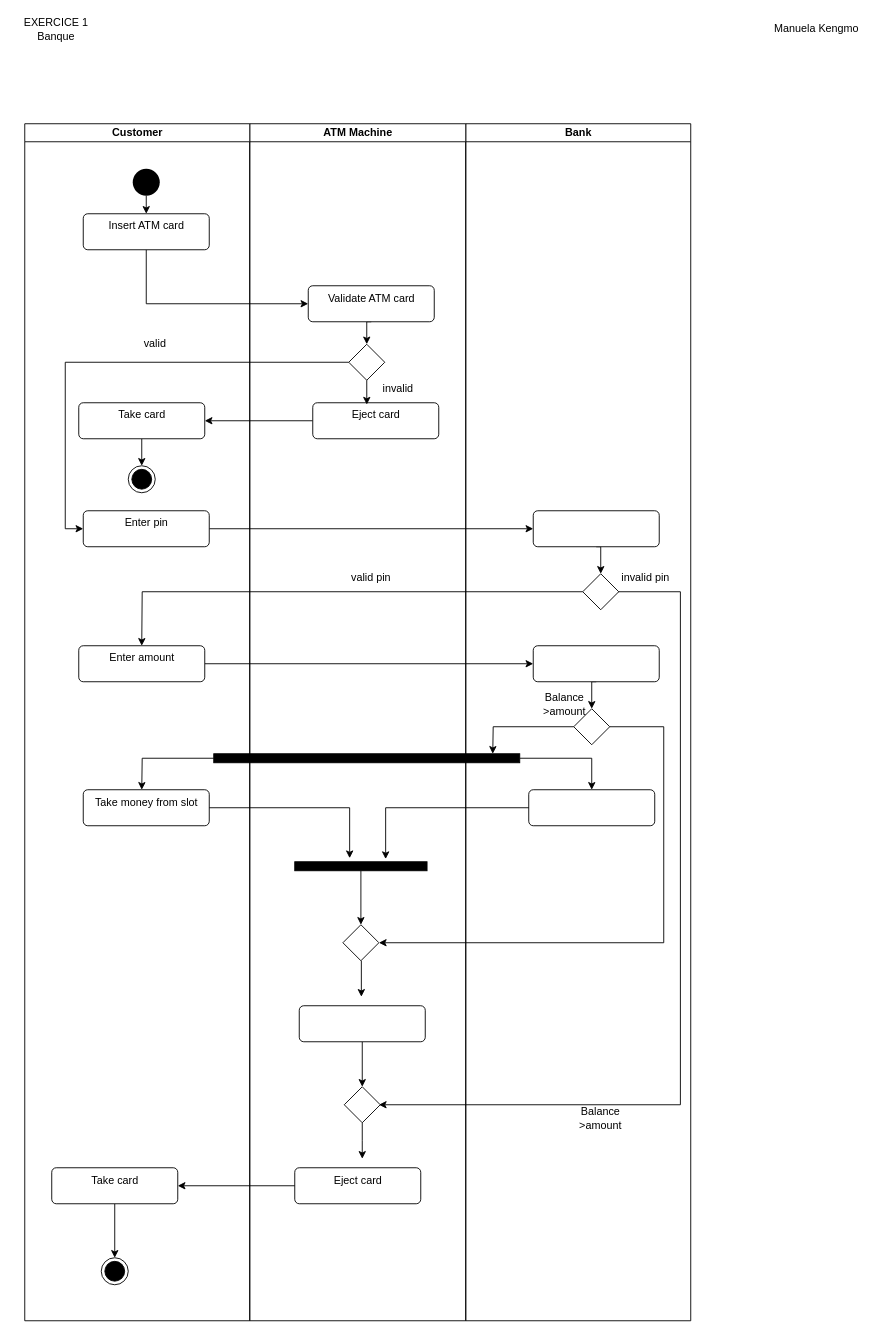
Image size: 886x1337. Some labels were removed from this diagram. The shapes that lost their labels are listed below. From the top down, each one's centre as x and y in pixels, then its label:
At pixel 595 528: "Authorize pin".
At pixel 595 663: "Check balance".
At pixel 591 807: "Debit account".
At pixel 361 1023: "Show balance".
